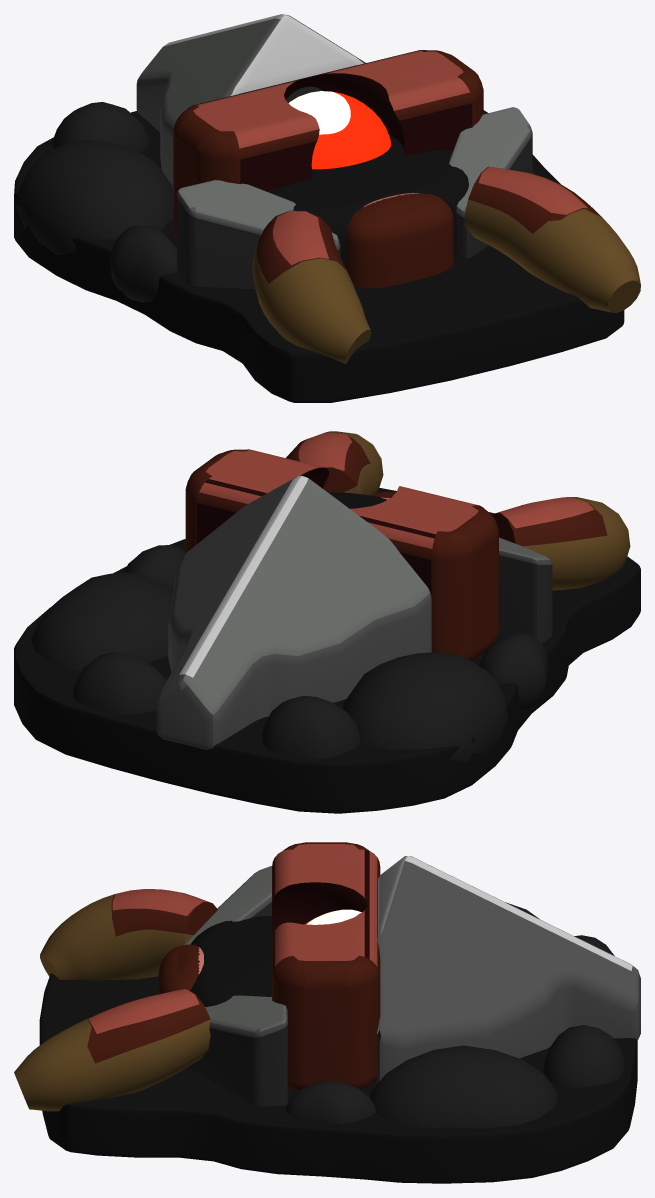
Rendered from hood_turret_157.glb.
The picture shows the model from 3 angles, top to bottom: view 1: azimuth 30°, elevation 25°; view 2: azimuth 150°, elevation 25°; view 3: azimuth 270°, elevation 25°; orthographic projection. The views are drawn at different scales.
Parts seen in each view (by area): view 1: pit, band, claw1, hood, boulder0, claw0, cheek1, chin, core, cheek-1, eye, boulder4 (+1 smaller); view 2: hood, pit, band, boulder0, boulder3, claw0, cheek1, boulder1, boulder2, claw1, boulder4, boulder5 (+1 smaller); view 3: pit, hood, band, claw1, boulder3, claw0, cheek-1, core, boulder2, boulder5, cheek1, chin (+1 smaller).
Boxes of the visible parts, x1,y1,x2,y2 form: pit: (14, 110, 624, 402); band: (173, 50, 483, 238); claw1: (464, 166, 640, 312); hood: (136, 14, 365, 192); boulder0: (16, 140, 173, 255); claw0: (252, 210, 371, 363); cheek1: (176, 180, 340, 289); chin: (346, 193, 453, 288); core: (268, 134, 468, 269); cheek-1: (449, 107, 532, 258); eye: (288, 91, 391, 169); boulder4: (110, 225, 176, 302); hood: (156, 475, 431, 749); pit: (14, 488, 640, 813); band: (185, 449, 498, 660); boulder0: (342, 652, 508, 762); boulder3: (31, 572, 173, 671); claw0: (492, 497, 630, 590); cheek1: (497, 537, 552, 643); boulder1: (262, 696, 360, 758); boulder2: (73, 652, 166, 714); claw1: (286, 431, 383, 495); boulder4: (479, 633, 548, 711); boulder5: (124, 545, 185, 590); pit: (39, 973, 637, 1183); hood: (377, 856, 640, 1083); band: (272, 842, 380, 1090); claw1: (14, 988, 210, 1111); boulder3: (370, 1045, 557, 1128); claw0: (40, 889, 217, 980); cheek-1: (189, 995, 287, 1106); core: (190, 916, 272, 1006); boulder2: (543, 1025, 624, 1087); boulder5: (286, 1081, 375, 1123); cheek1: (185, 866, 271, 944); chin: (158, 944, 203, 994).
Bounding box in the file's own units: 22.14 × 10.59 × 27.53.
